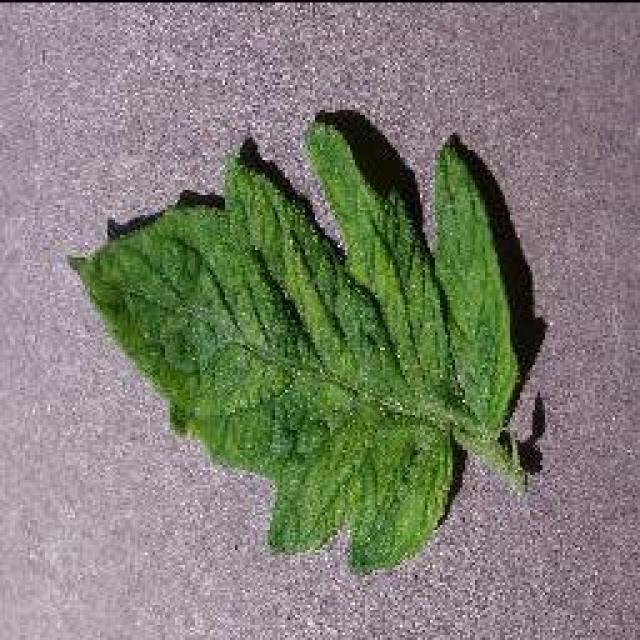Tomato mosaic virus leaf: (77, 109, 611, 571)
